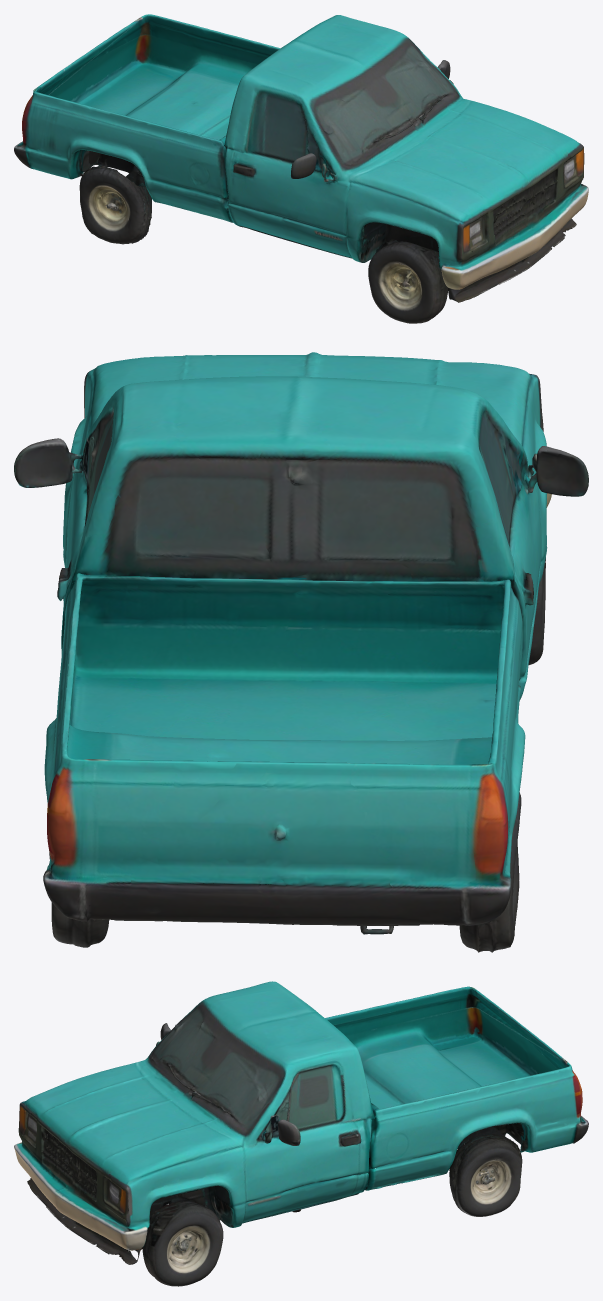
Rendered from pickup_truck_1990.glb.
The picture shows the model from 3 angles, top to bottom: view 1: azimuth 30°, elevation 25°; view 2: azimuth 150°, elevation 25°; view 3: azimuth 270°, elevation 25°; orthographic projection. The views are drawn at different scales.
Visible parts, largest first — view 1: Object_4, Object_5, Object_6; view 2: Object_4, Object_5, Object_6; view 3: Object_4, Object_5, Object_6.
Boxes of the visible parts, x1=… form: Object_4: x1=14, y1=14, x2=588, y2=323; Object_5: x1=22, y1=14, x2=583, y2=323; Object_6: x1=22, y1=16, x2=586, y2=322; Object_4: x1=30, y1=352, x2=551, y2=952; Object_5: x1=14, y1=354, x2=588, y2=950; Object_6: x1=21, y1=355, x2=587, y2=952; Object_4: x1=18, y1=981, x2=576, y2=1285; Object_5: x1=14, y1=988, x2=588, y2=1286; Object_6: x1=14, y1=983, x2=582, y2=1285.
Bounding box in the file's own units: 1.67 × 0.7873 × 2.11.
1 material, 1 textured.
